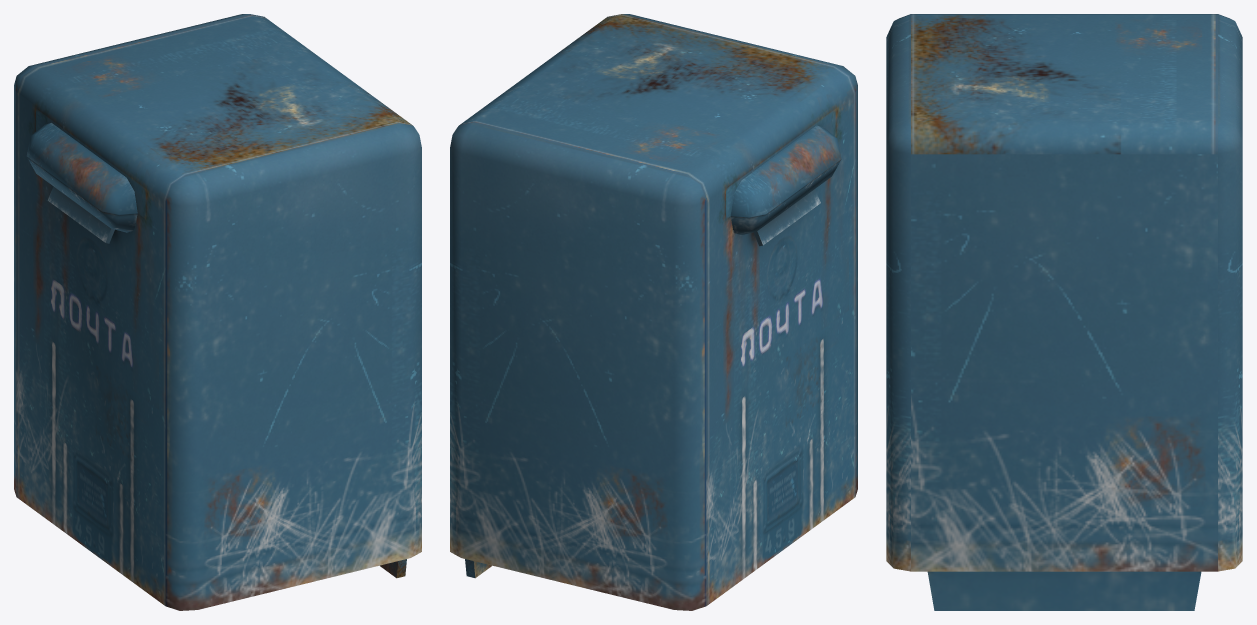
File: postbox.FBX
The picture shows the model from 3 angles, left to right: view 1: azimuth 30°, elevation 25°; view 2: azimuth 150°, elevation 25°; view 3: azimuth 270°, elevation 25°; orthographic projection. The views are drawn at different scales.
Parts seen in each view (by area): view 1: postbox; view 2: postbox; view 3: postbox.
Part boxes in pixels (box(x1,y1,x2,y2)): postbox: box(14, 14, 421, 610); postbox: box(450, 14, 857, 610); postbox: box(886, 14, 1242, 610).
Size of what is drawn, in the model's own units: 26.97 by 43.04 by 28.92.
